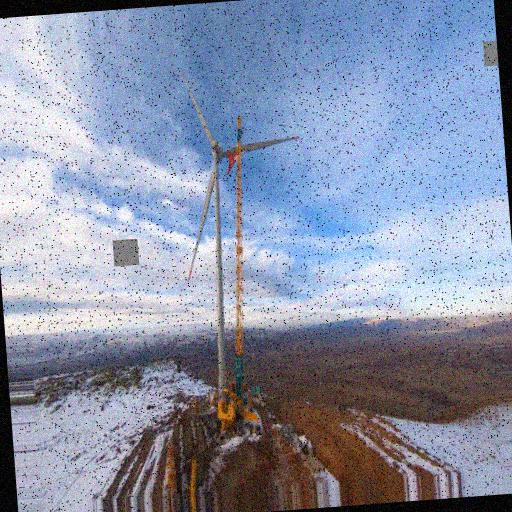wind turbine: (175, 65, 301, 409)
